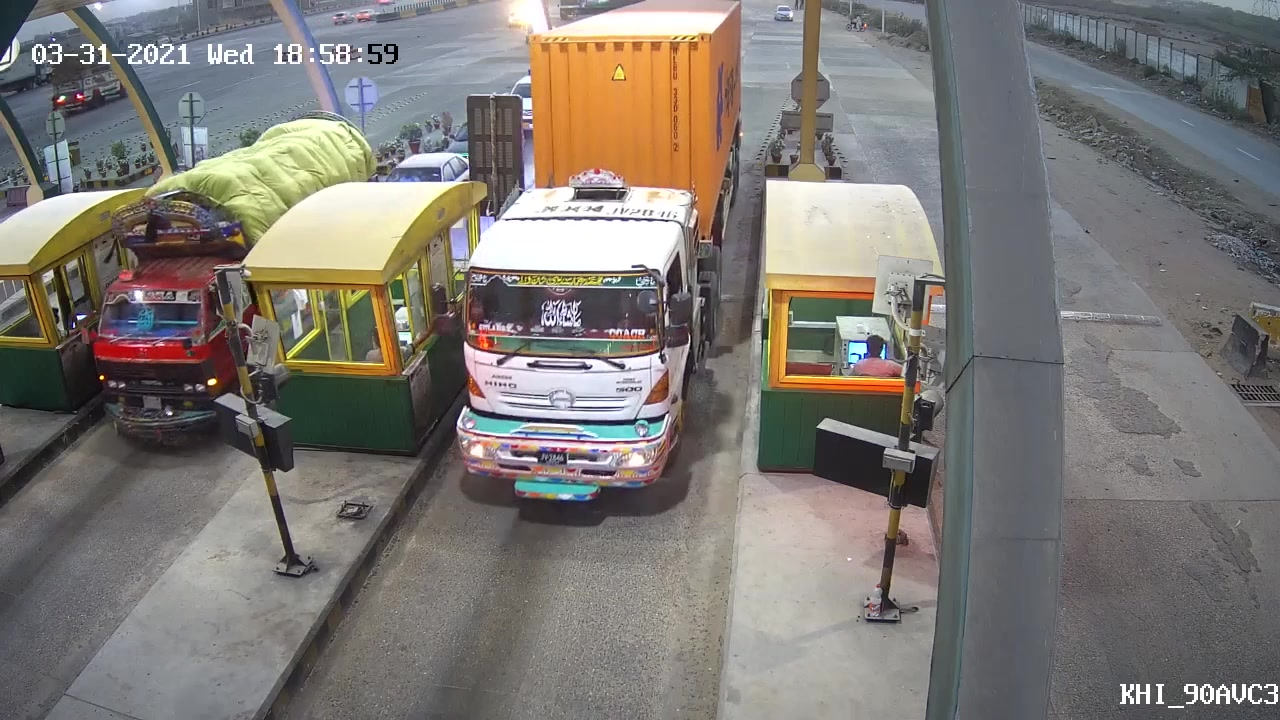F6: (423, 1, 747, 507)
